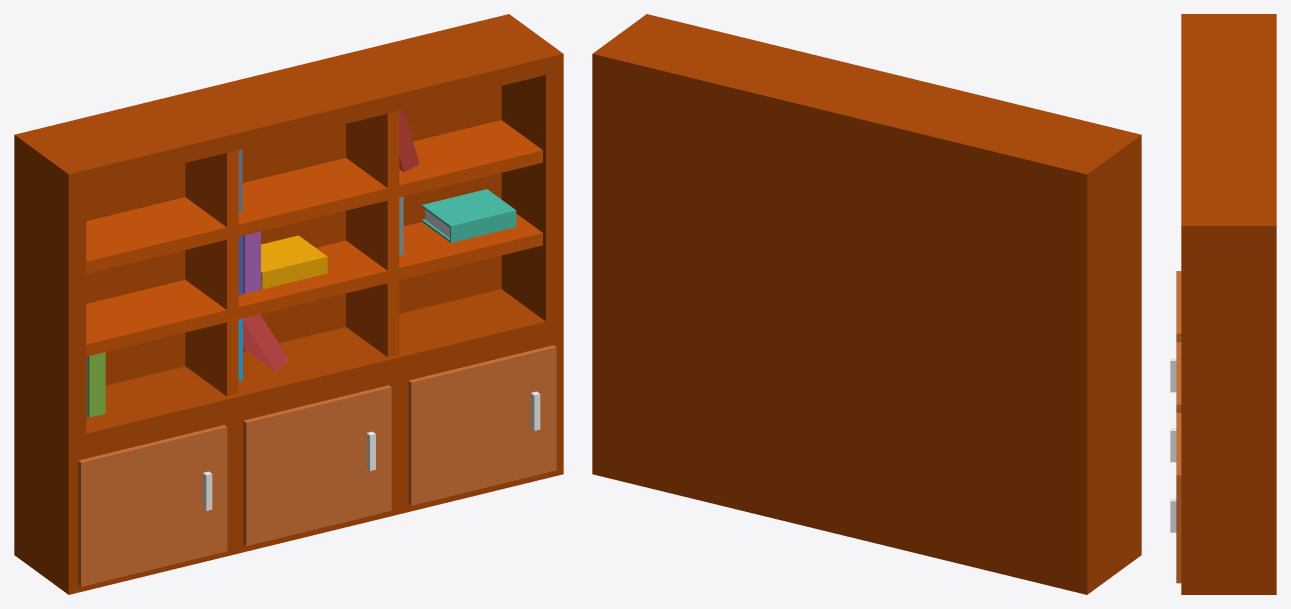
File: Bookcase lv3.fbx
3 renders of one model, left to right at view 1: azimuth 30°, elevation 25°; view 2: azimuth 150°, elevation 25°; view 3: azimuth 270°, elevation 25°, orthographic. The views are drawn at different scales.
Parts seen in each view (by area): view 1: Bookcase_lv3; view 2: Bookcase_lv3; view 3: Bookcase_lv3.
Part boxes in pixels (left/top/right/bottom): Bookcase_lv3: left=14, top=14, right=563, bottom=594; Bookcase_lv3: left=592, top=14, right=1141, bottom=594; Bookcase_lv3: left=1170, top=14, right=1276, bottom=594.
Size of the model in its own units: 361 by 293 by 76.64.
